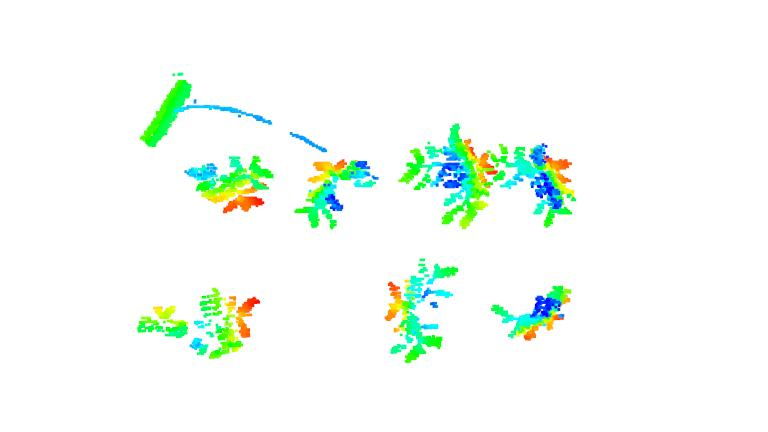chickpea: (398, 122, 506, 229), (133, 286, 261, 362), (379, 255, 462, 362), (493, 140, 576, 230), (291, 157, 383, 233), (182, 151, 277, 213), (491, 284, 576, 339)
